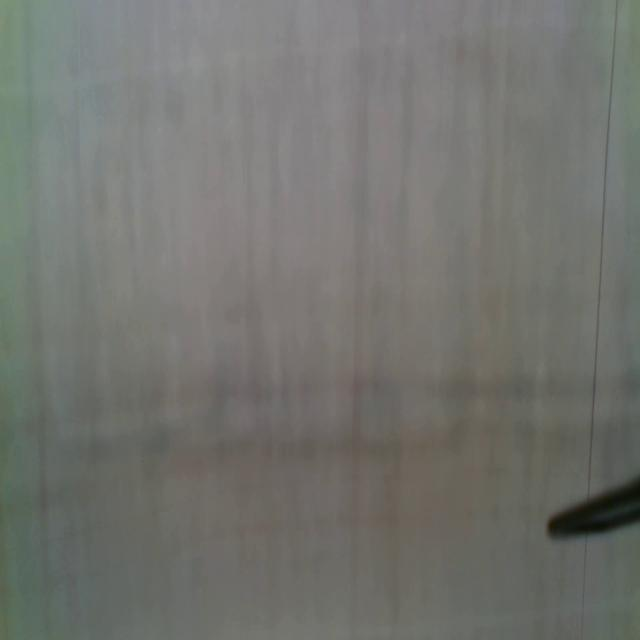color bleeding: (61, 359, 639, 476)
crease: (589, 0, 618, 488), (580, 533, 590, 640)
